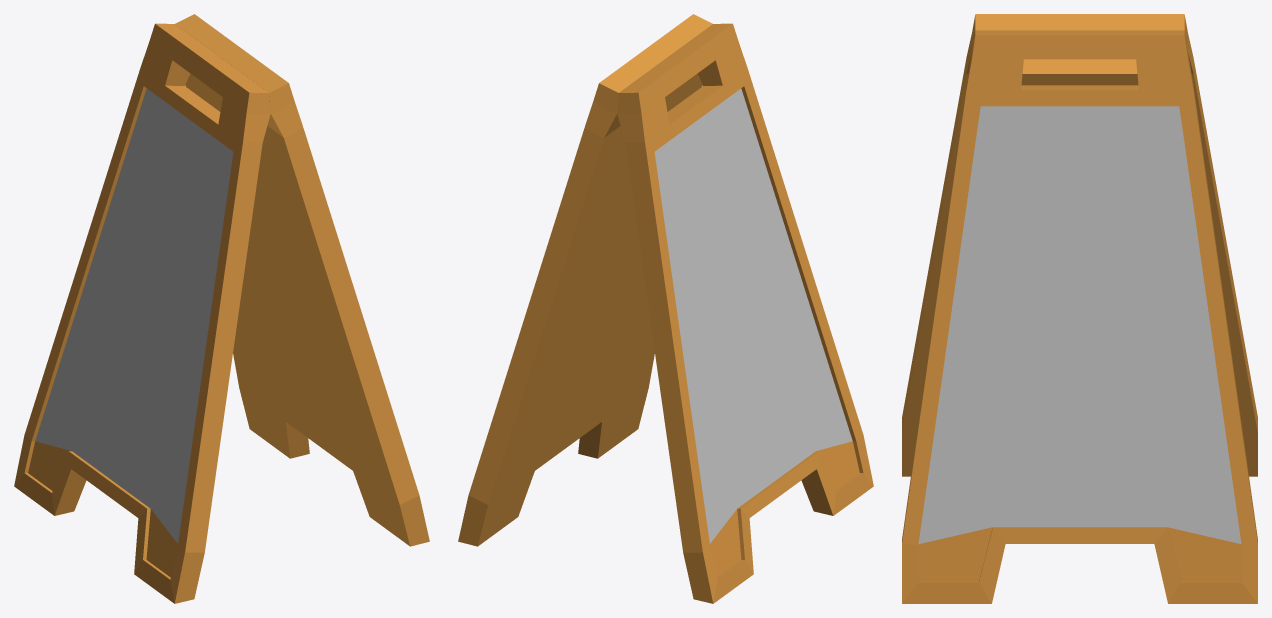
The model's file is SM_CartelPeligro.fbx.
3 views of the same model, side by side, from view 1: azimuth 30°, elevation 25°; view 2: azimuth 150°, elevation 25°; view 3: azimuth 270°, elevation 25° (orthographic). The views are drawn at different scales.
Parts seen in each view (by area): view 1: Cube; view 2: Cube; view 3: Cube.
Part boxes in pixels (left/top/right/bottom): Cube: left=14, top=14, right=429, bottom=603; Cube: left=458, top=14, right=873, bottom=603; Cube: left=902, top=14, right=1257, bottom=603.
Bounding box in the file's own units: 33.77 × 58.25 × 36.81.
